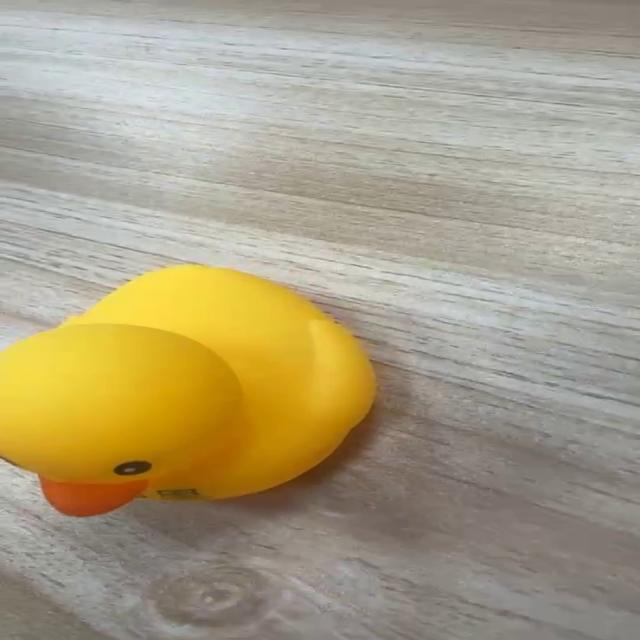yellow_duck: (0, 263, 378, 517)
